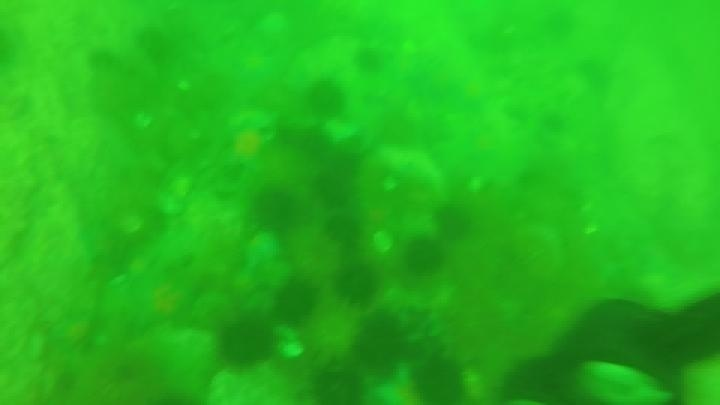echinus: (352, 312, 410, 374), (215, 316, 278, 370), (410, 355, 468, 404), (308, 363, 368, 405), (272, 277, 320, 327), (250, 186, 300, 234), (333, 261, 381, 307), (402, 237, 446, 278), (311, 169, 355, 210), (305, 79, 347, 121), (432, 202, 474, 241), (322, 212, 364, 248), (352, 46, 386, 76), (85, 46, 119, 75)
scallop: (505, 224, 568, 285)
starfish: (132, 274, 213, 340), (221, 121, 275, 173), (371, 364, 426, 404), (447, 76, 499, 117), (226, 106, 278, 137)
